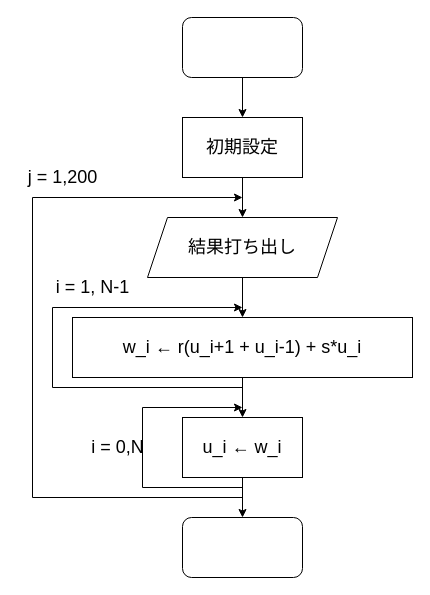
The diagram is 430 pixels wide and 595 high, and some of its shapes have lost their labels. Each missing label, with the centre of its shape:
"END" goes at (242,547).
"START" goes at (242,47).
